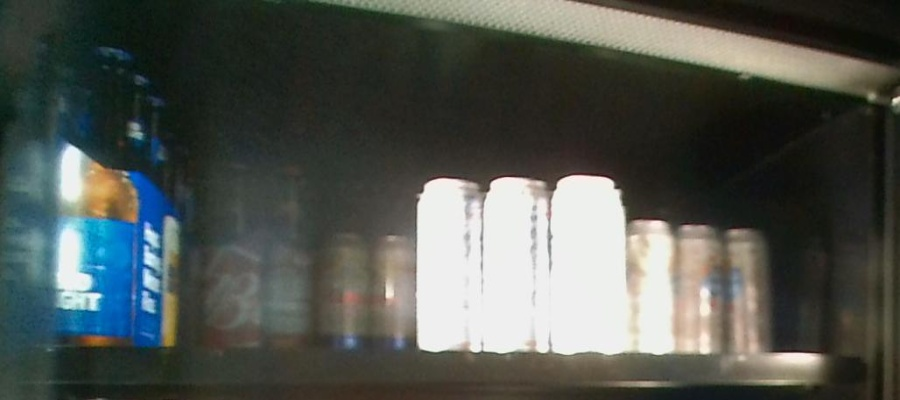bottle: (418, 175, 628, 356), (58, 43, 179, 346), (202, 156, 308, 354), (626, 217, 776, 351), (320, 181, 411, 347)
